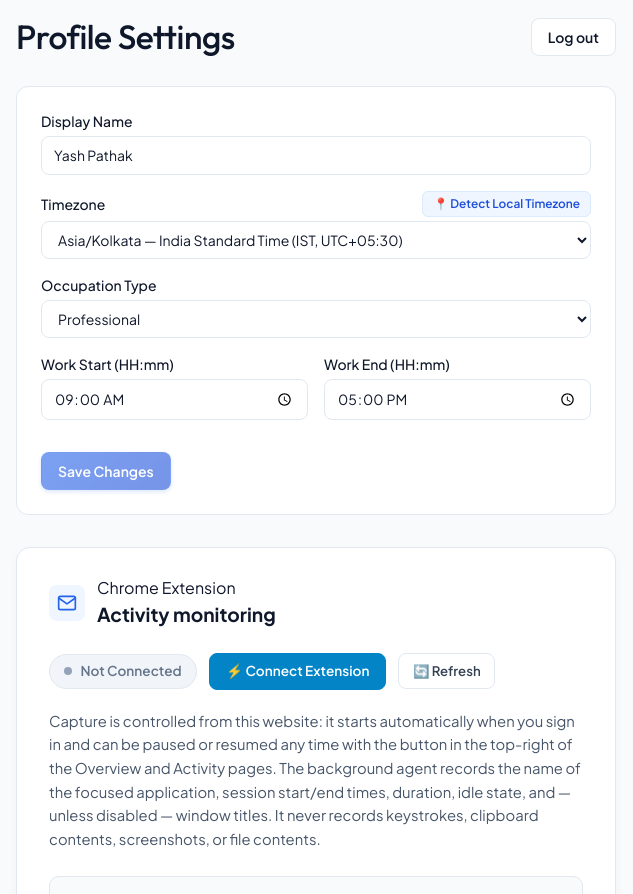
Test: Profile & Timezone Management › allows changing timezone and saving profile successfully
The image size is (633, 894).
Expected: the field showing "Yash Pathak" is shown, 41,136 -> 591,175
Select "Asia/Dubai — Gulf Standard Time (GST, UTC+04:00)" in the dropdown labelled "Timezone": (316, 240) 41,221 -> 591,259
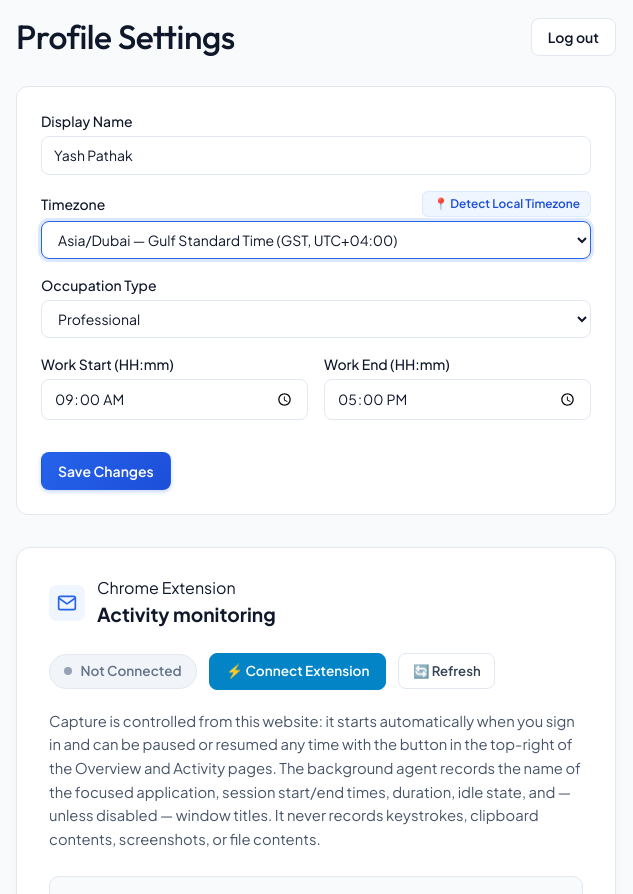
Click the button "Save Changes": click(106, 471) 41,452 -> 171,490
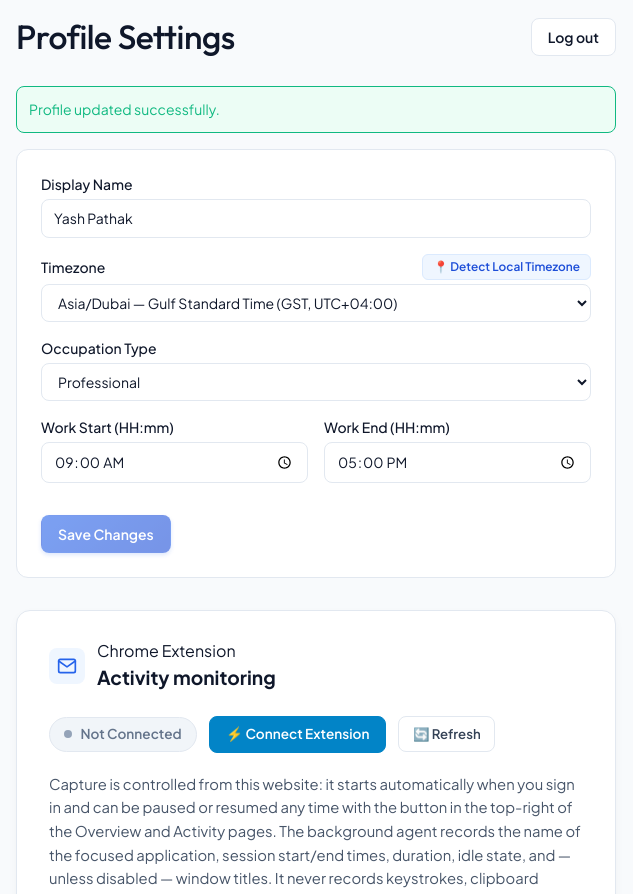
Result: the text "Profile updated successfully." is shown at 16,86 -> 616,133
